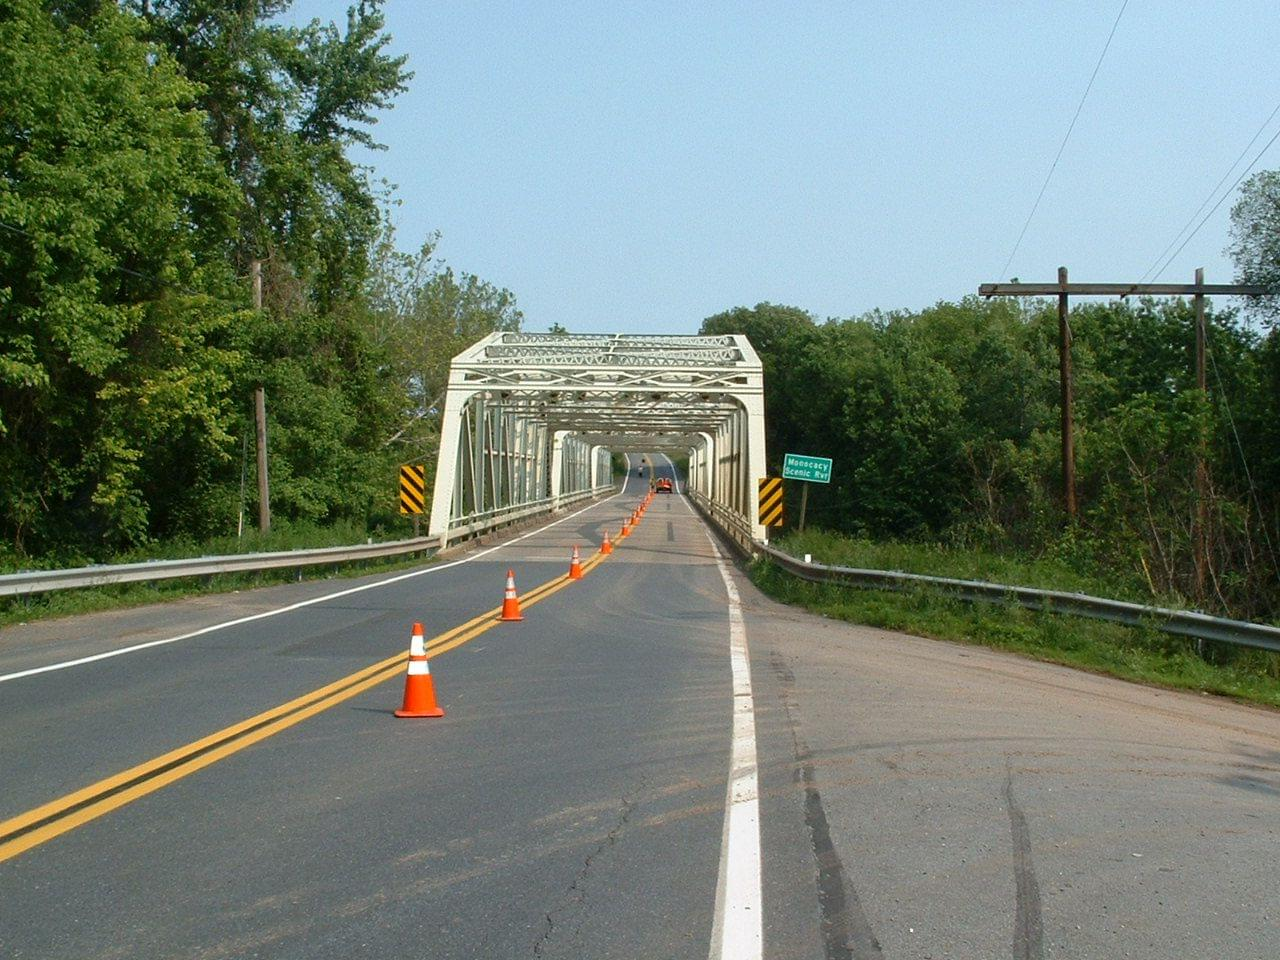bridge: (429, 331, 779, 564)
